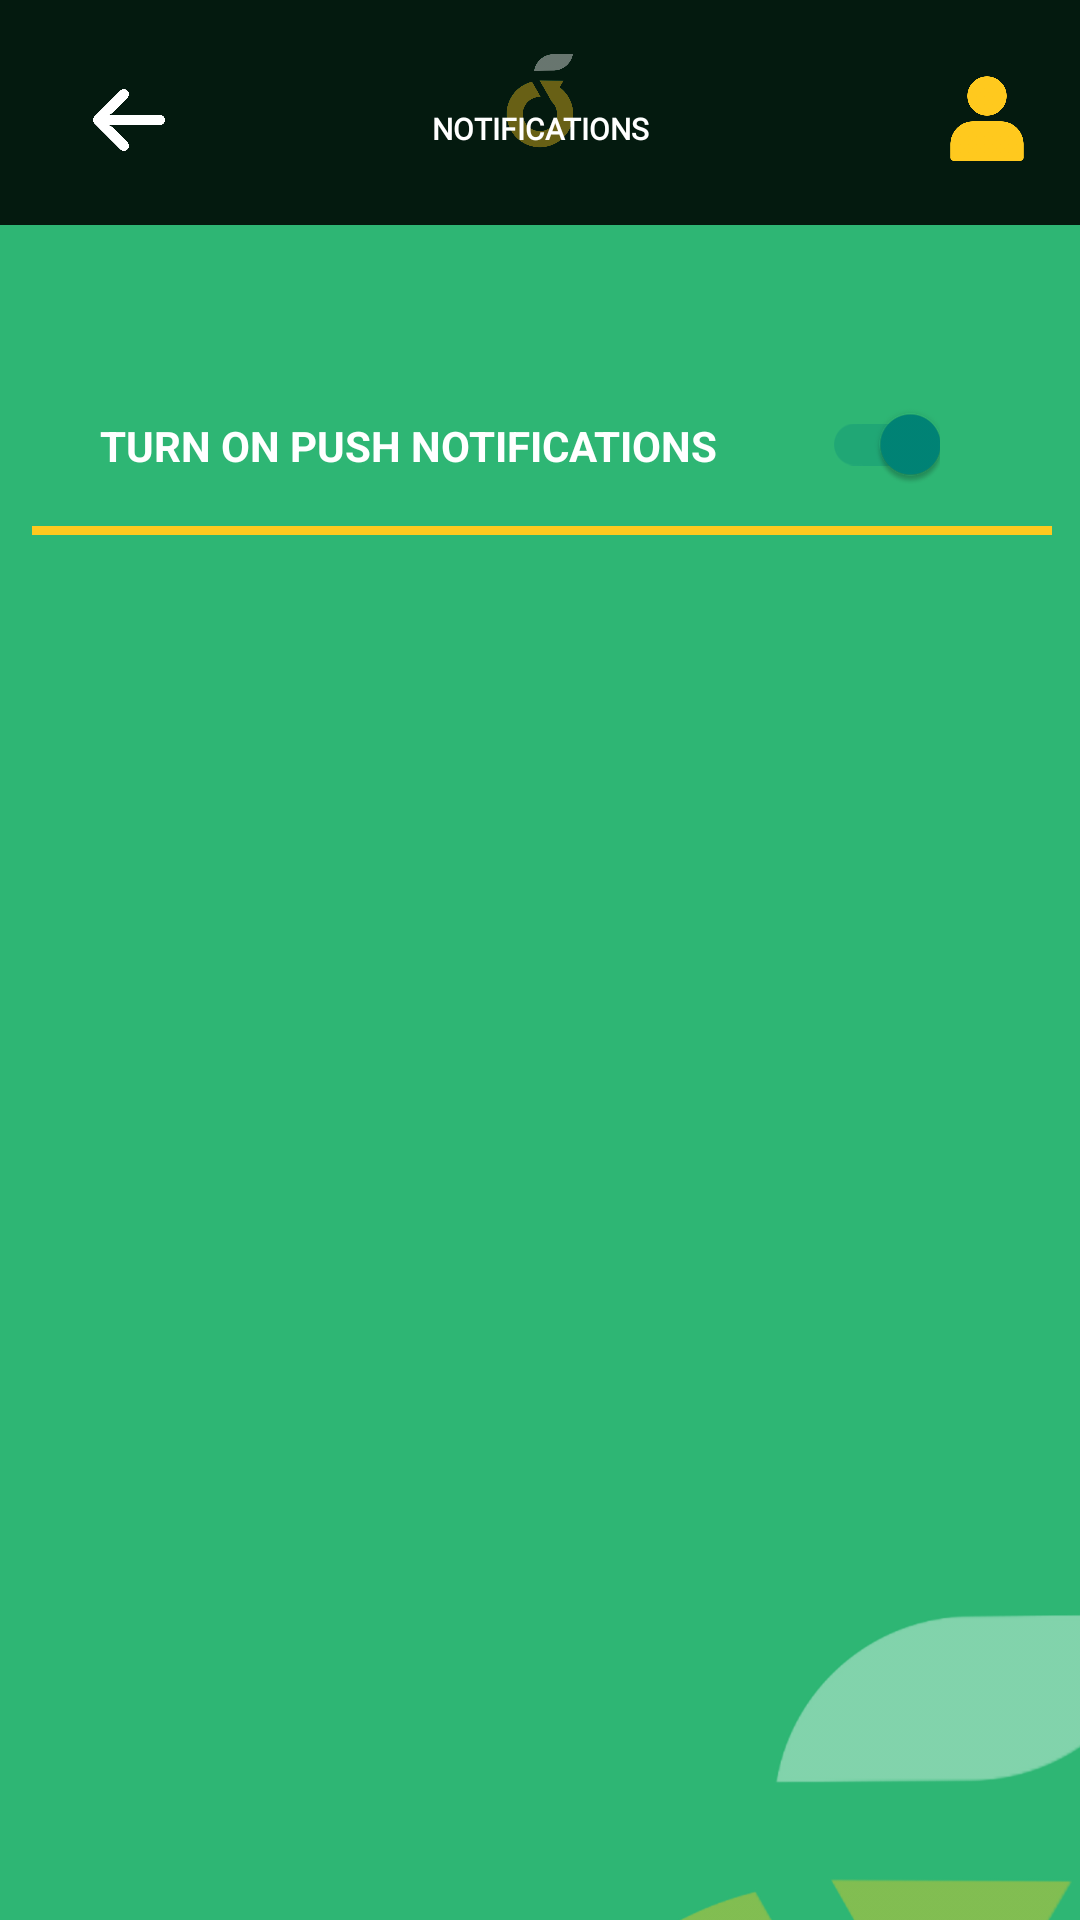

Icons on this 1080w x 1920h Android screen, each with the point to tap as point (x, y):
account: point (987, 118)
arrow back: point (129, 120)
